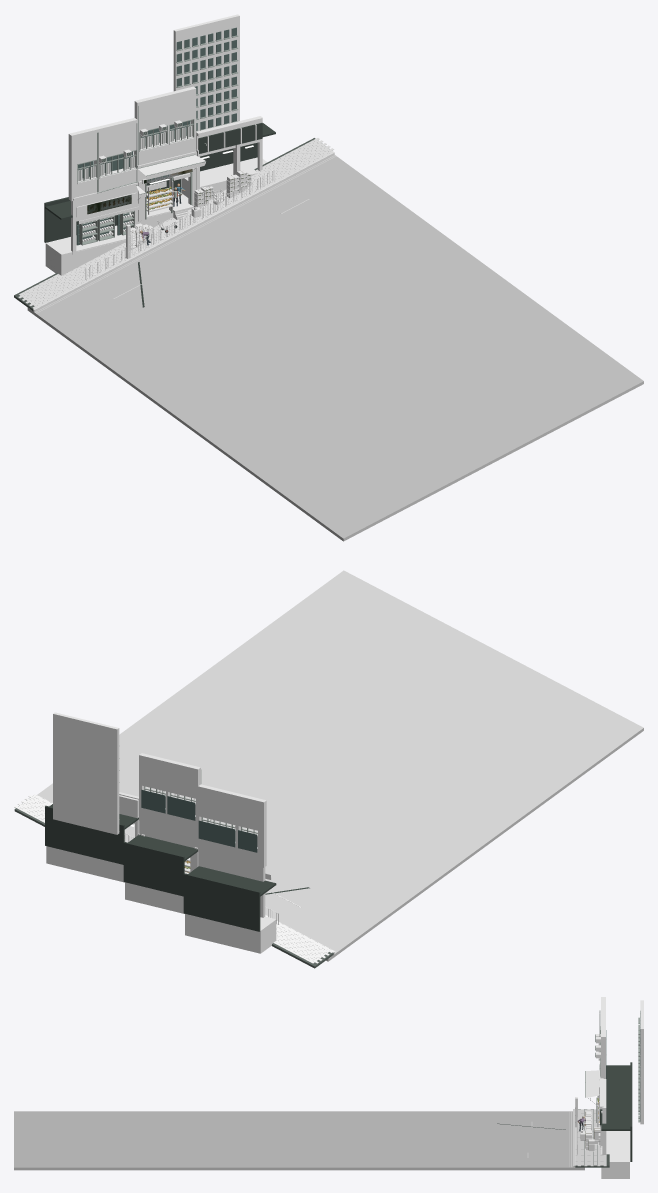
The picture shows the model from 3 angles, top to bottom: view 1: azimuth 30°, elevation 25°; view 2: azimuth 150°, elevation 25°; view 3: azimuth 270°, elevation 25°; orthographic projection. The views are drawn at different scales.
Visible parts, largest first — view 1: Road continuous substrate, BACKGROUND_UPRIGHT_RECTANGULAR_BUILDING, Upper blue-grey facade_BAY0, Upper blue-grey facade_BAY1, Curb continuous stone, Main ground floor wall_BAY0, Stepped shop foundation 0, Right high closed fascia, Shop back wall 0, Shop level floor 2, Shop back wall 2; view 2: Road continuous substrate, BACKGROUND_UPRIGHT_RECTANGULAR_BUILDING, Upper blue-grey facade_BAY0, Shop back wall 0, Upper blue-grey facade_BAY1, Shop back wall 1, Shop back wall 2, Stepped shop foundation 0, Stepped shop foundation 2, Main ground floor wall_BAY0, Stepped shop foundation 1, Main ground floor wall_BAY1 (+3 smaller); view 3: Road continuous substrate, Shop ceiling 2, Shop level floor 2, BACKGROUND_UPRIGHT_RECTANGULAR_BUILDING, Shop ceiling 0, Stepped shop foundation 2, Fruit shop sloped canopy_BAY1, Upper blue-grey facade_BAY1, Right shop wall, Shop ceiling 1.
Boxes of the visible parts, x1=… form: Road continuous substrate: x1=27, y1=155, x2=643, y2=541; BACKGROUND_UPRIGHT_RECTANGULAR_BUILDING: x1=173, y1=14, x2=239, y2=130; Upper blue-grey facade_BAY0: x1=68, y1=118, x2=137, y2=201; Upper blue-grey facade_BAY1: x1=134, y1=86, x2=196, y2=165; Curb continuous stone: x1=33, y1=151, x2=334, y2=312; Main ground floor wall_BAY0: x1=71, y1=185, x2=137, y2=254; Stepped shop foundation 0: x1=45, y1=239, x2=125, y2=275; Right high closed fascia: x1=198, y1=123, x2=262, y2=153; Shop back wall 0: x1=44, y1=197, x2=119, y2=242; Shop level floor 2: x1=183, y1=157, x2=267, y2=187; Shop back wall 2: x1=200, y1=142, x2=257, y2=171; Road continuous substrate: x1=37, y1=570, x2=643, y2=961; BACKGROUND_UPRIGHT_RECTANGULAR_BUILDING: x1=53, y1=712, x2=119, y2=834; Upper blue-grey facade_BAY0: x1=198, y1=784, x2=266, y2=867; Shop back wall 0: x1=183, y1=873, x2=260, y2=931; Upper blue-grey facade_BAY1: x1=139, y1=753, x2=200, y2=834; Shop back wall 1: x1=123, y1=842, x2=184, y2=896; Shop back wall 2: x1=45, y1=805, x2=124, y2=864; Stepped shop foundation 0: x1=185, y1=914, x2=276, y2=953; Stepped shop foundation 2: x1=46, y1=846, x2=124, y2=882; Main ground floor wall_BAY0: x1=199, y1=852, x2=265, y2=917; Stepped shop foundation 1: x1=125, y1=882, x2=184, y2=913; Main ground floor wall_BAY1: x1=139, y1=820, x2=198, y2=871; Road continuous substrate: x1=14, y1=1111, x2=584, y2=1170; Shop ceiling 2: x1=601, y1=1094, x2=630, y2=1130; Shop level floor 2: x1=601, y1=1131, x2=629, y2=1162; BACKGROUND_UPRIGHT_RECTANGULAR_BUILDING: x1=640, y1=1000, x2=643, y2=1124; Shop ceiling 0: x1=606, y1=1065, x2=630, y2=1083; Stepped shop foundation 2: x1=601, y1=1162, x2=629, y2=1178; Fruit shop sloped canopy_BAY1: x1=585, y1=1070, x2=599, y2=1097; Upper blue-grey facade_BAY1: x1=601, y1=1011, x2=605, y2=1078; Right shop wall: x1=602, y1=1079, x2=606, y2=1154; Shop ceiling 1: x1=606, y1=1083, x2=630, y2=1094.
Size of the model in its own units: 28.2 by 18.95 by 56.26.
Materials: 38 (2 with a texture image).
